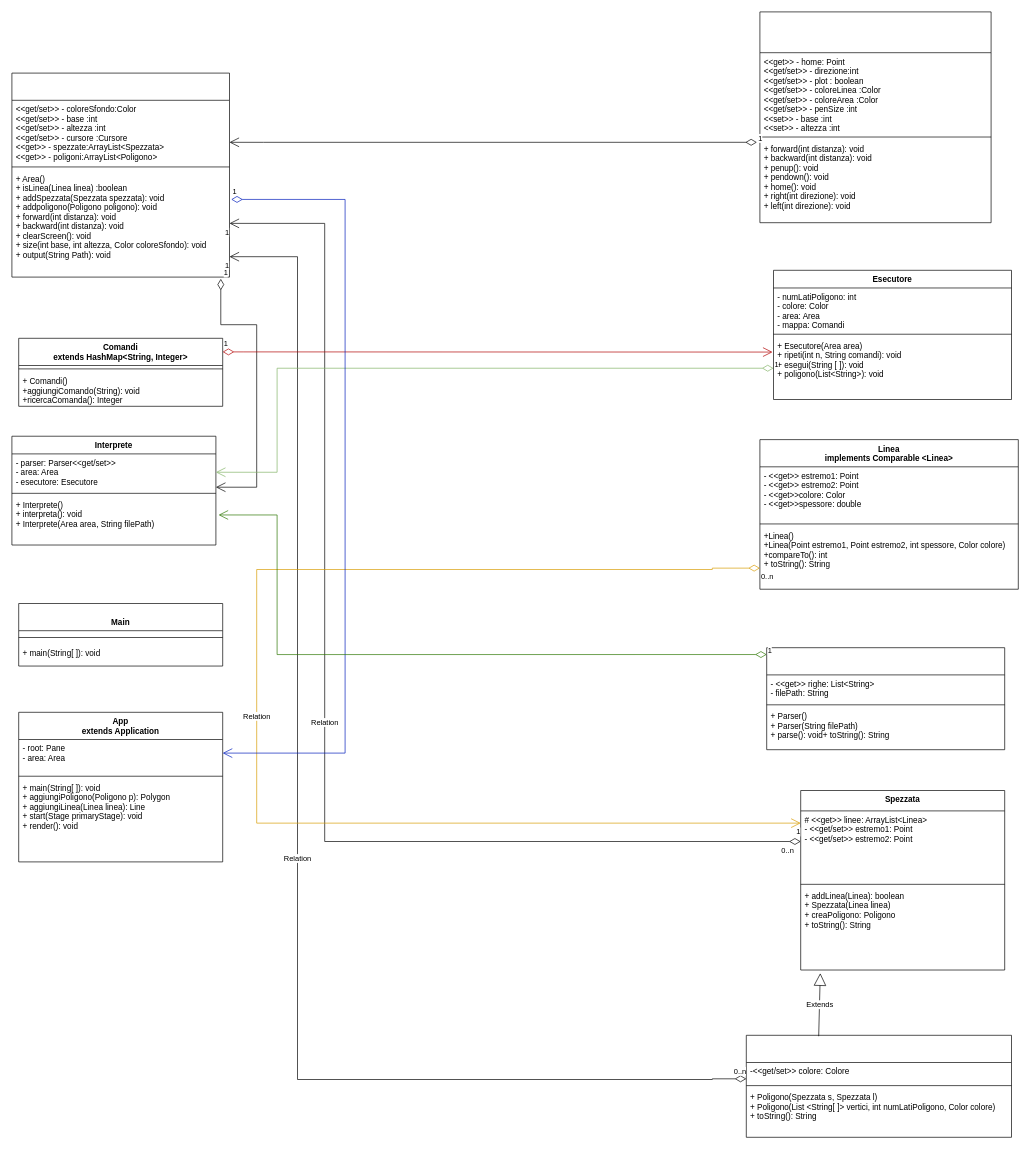
Some shapes in this 1030 by 1151 pixel diagram are drawn without their labels. Each missing label, with the box of its shape:
Area implements IArea: (11, 72, 230, 277)
Cursore extends Point implements Icursore: (759, 11, 991, 223)
Parser implements IParser: (766, 647, 1005, 750)
Poligono extends Spezzata: (746, 1035, 1012, 1137)
